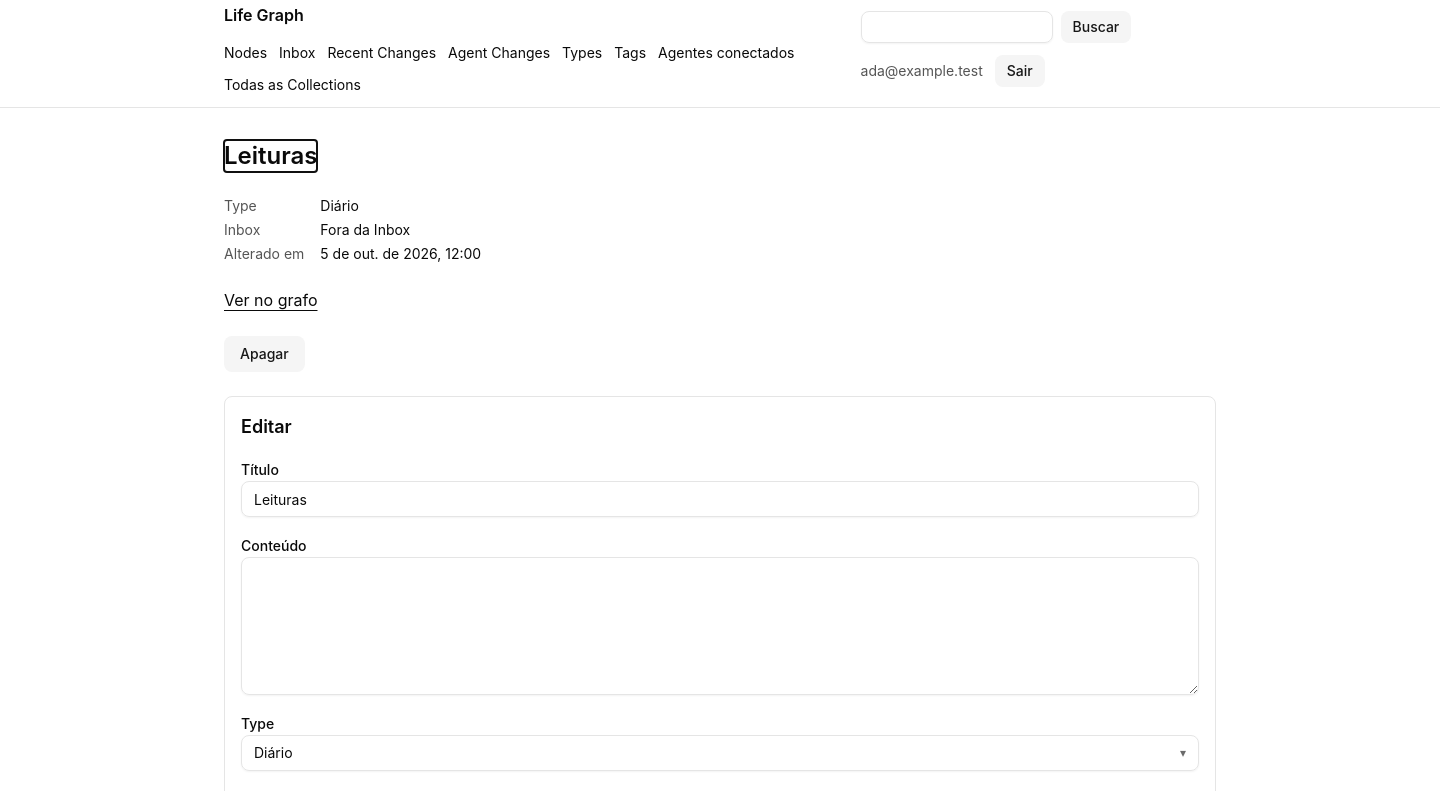
Test: node inspector › warns when a new Type makes the Node visible to agents, until the Node is hidden on its own
The image size is (1440, 791).
Click the dropdown named "Type" at (273, 752), box [241,735,1199,771]
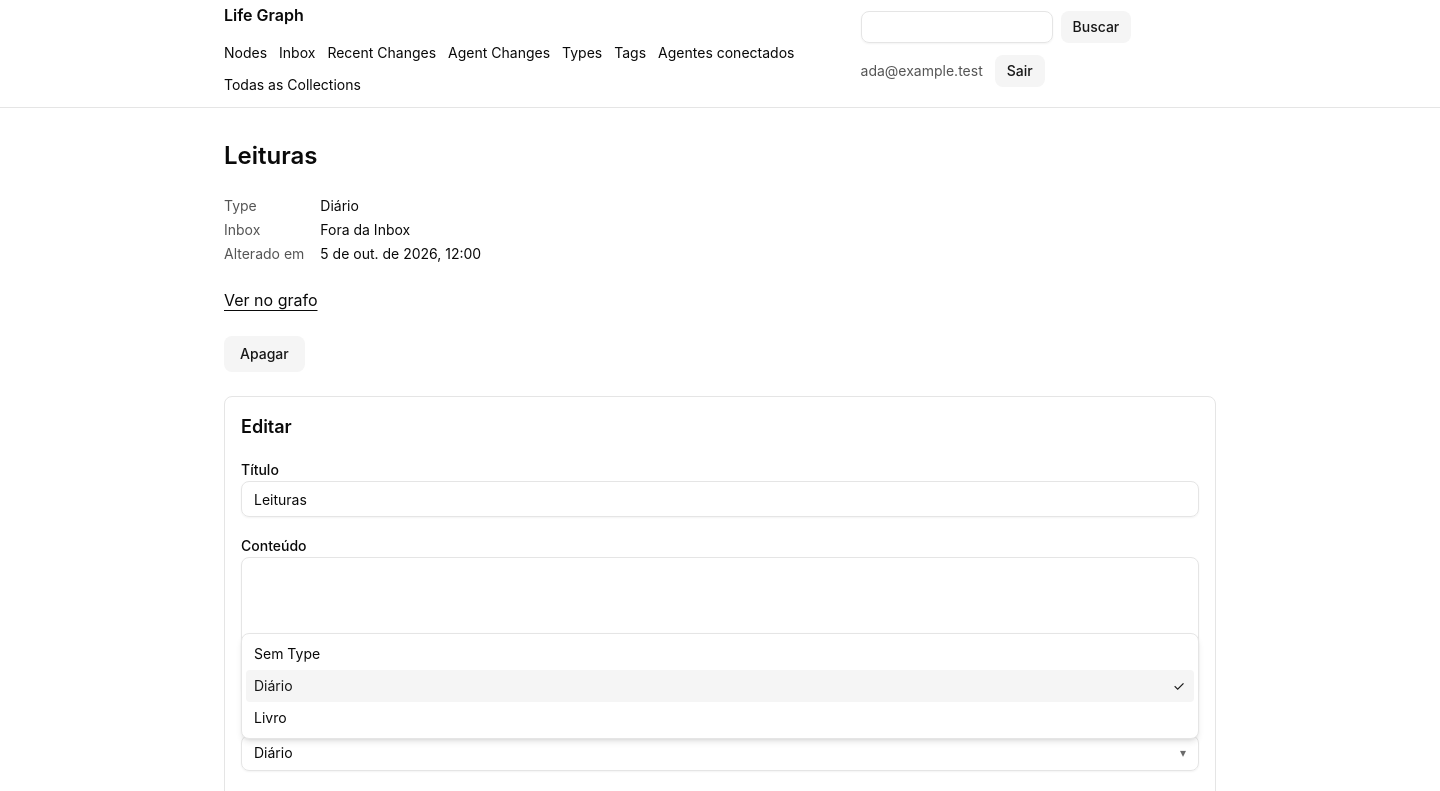
Click the option "Livro" at (270, 718), box [254,709,287,726]
(page scrolled)
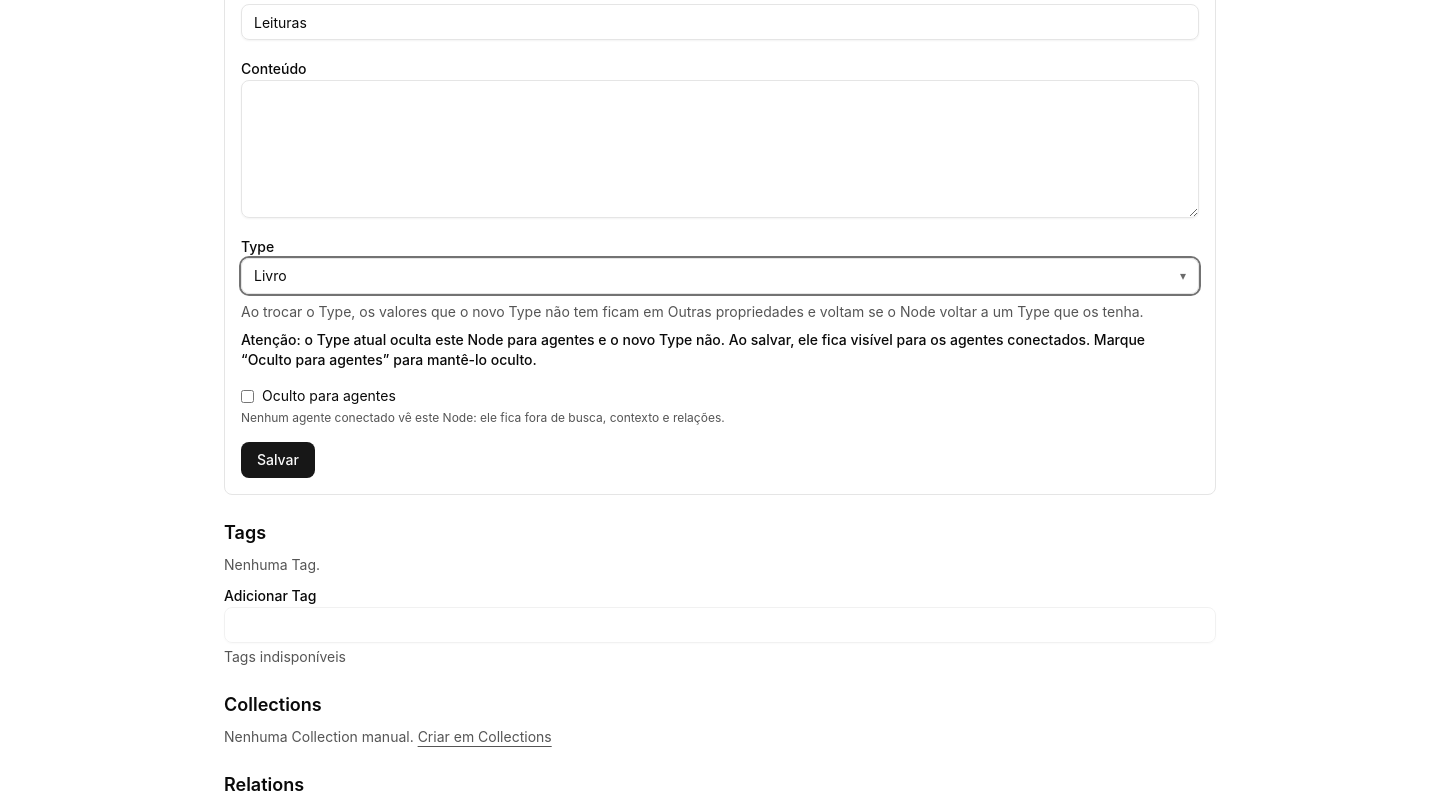
Now the text "Ao salvar, ele fica visível para os agentes conectados" is shown, box [241,331,1145,368]
Click the checkbox labelled "Oculto para agentes" at (248, 396), box [241,390,254,402]
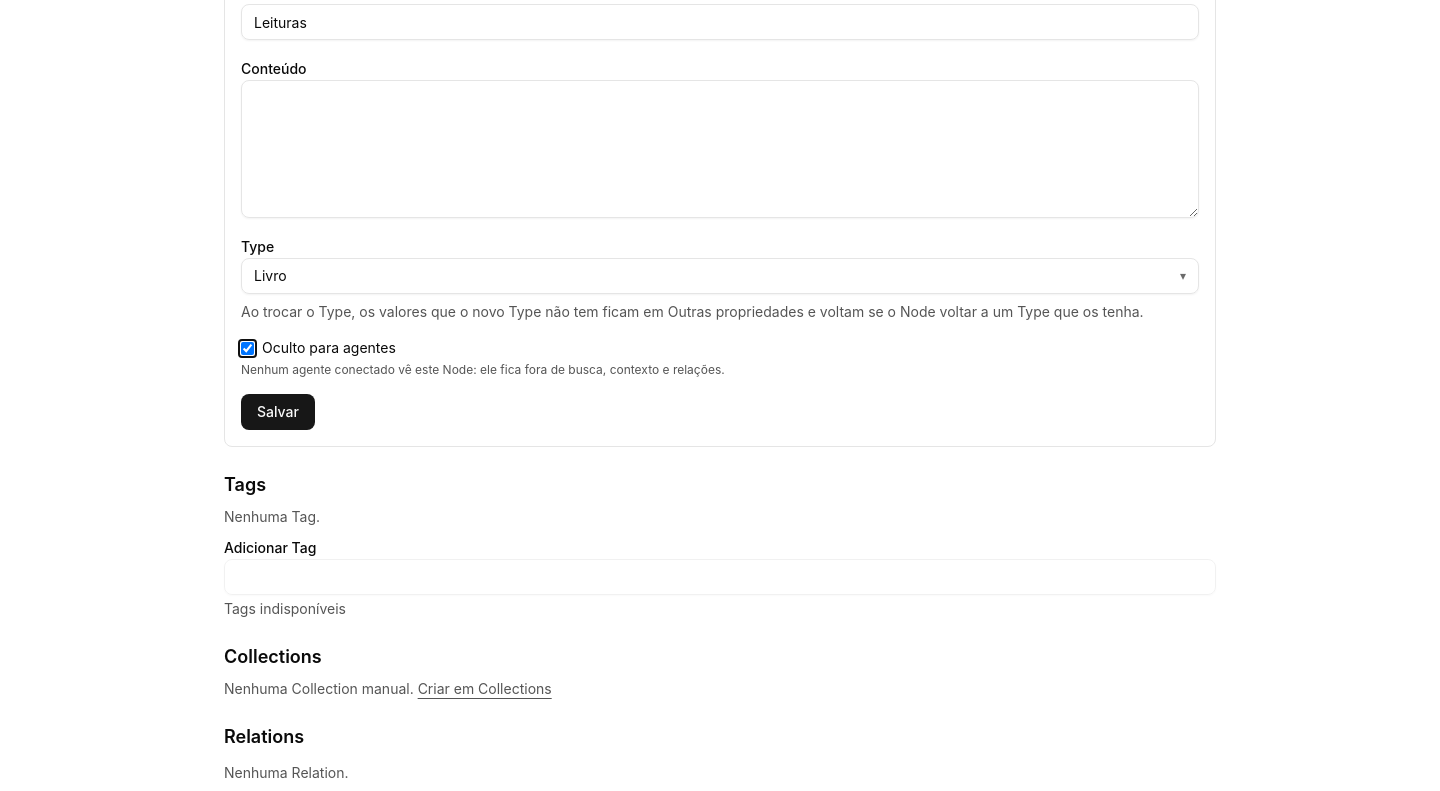
Now the text "Ao salvar, ele fica visível para os agentes conectados" is gone
